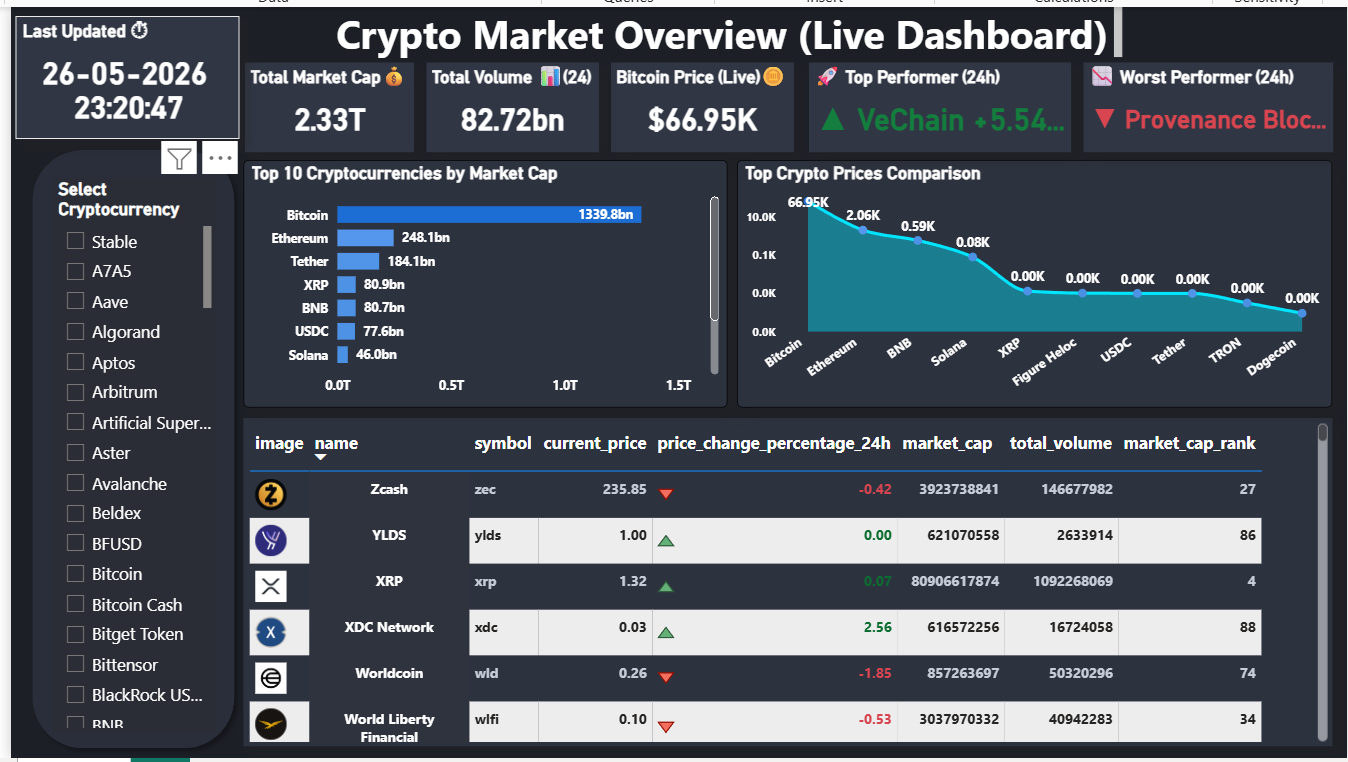

What the dashboard file says about the page in this screenshot:
{"tool":"powerbi","page":{"name":"Page 1","canvas":[1280,720],"ordinal":0},"visuals":[{"type":"shape","box":[11.7,128.3,211.7,591.7],"z":0},{"type":"card","title":"Total Market Cap💰","fields":{"Values":["Sum(markets?vs_currency=usd&order=market_cap_desc&per_page=100&page=1&sparkline=fals.market_cap)"]},"box":[224.1,53,162,86.3],"z":1000},{"type":"card","title":"Bitcoin Price (Live)🪙","fields":{"Values":["Max(markets?vs_currency=usd&order=market_cap_desc&per_page=100&page=1&sparkline=fals.current_price)"]},"box":[575.4,53,175,86.3],"z":2000},{"type":"card","title":"Total Volume 📊(24)","fields":{"Values":["Sum(markets?vs_currency=usd&order=market_cap_desc&per_page=100&page=1&sparkline=fals.total_volume)"]},"box":[398.2,53,165,86.3],"z":3000},{"type":"tableEx","fields":{"Values":["markets?vs_currency=usd&order=market_cap_desc&per_page=100&page=1&sparkline=fals.image","markets?vs_currency=usd&order=market_cap_desc&per_page=100&page=1&sparkline=fals.name","markets?vs_currency=usd&order=market_cap_desc&per_page=100&page=1&sparkline=fals.symbol","Sum(markets?vs_currency=usd&order=market_cap_desc&per_page=100&page=1&sparkline=fals.current_price)","Sum(markets?vs_currency=usd&order=market_cap_desc&per_page=100&page=1&sparkline=fals.price_change_percentage_24h)","Sum(markets?vs_currency=usd&order=market_cap_desc&per_page=100&page=1&sparkline=fals.market_cap)","Sum(markets?vs_currency=usd&order=market_cap_desc&per_page=100&page=1&sparkline=fals.total_volume)","Sum(markets?vs_currency=usd&order=market_cap_desc&per_page=100&page=1&sparkline=fals.market_cap_rank)"]},"box":[222.9,394,1044.1,314.9],"z":4000},{"type":"slicer","title":"Select Cryptocurrency","fields":{"Values":["markets?vs_currency=usd&order=market_cap_desc&per_page=100&page=1&sparkline=fals.name"]},"box":[40,163.3,156.7,531.7],"z":5000},{"type":"clusteredBarChart","title":"Top 10 Cryptocurrencies by Market Cap","fields":{"Category":["markets?vs_currency=usd&order=market_cap_desc&per_page=100&page=1&sparkline=fals.name"],"Y":["Sum(markets?vs_currency=usd&order=market_cap_desc&per_page=100&page=1&sparkline=fals.market_cap)"]},"box":[222.2,147.2,463.9,237.5],"z":6000},{"type":"textbox","box":[302.8,0,766.7,52.8],"z":7000},{"type":"card","title":"Last Updated ⏱","fields":{"Values":["markets?vs_currency=usd&order=market_cap_desc&per_page=100&page=1&sparkline=fals.Last Updated"]},"box":[4,9,214,118.1],"z":8000},{"type":"lineChart","title":"Top Crypto Prices Comparison","fields":{"Y":["Max(markets.current_price)"],"Category":["markets.name"]},"box":[695.8,147.2,570.8,237.5],"z":9000},{"type":"card","title":"📉 Worst Performer (24h)","fields":{"Values":["markets.Top Loser Card"]},"box":[1028.1,53,239.2,86.3],"z":10000},{"type":"card","title":"🚀 Top Performer (24h)","fields":{"Values":["markets.Top Gainer Card"]},"box":[764.7,53,251.4,86.3],"z":11000}]}

Visuals, with their boxes on the page's 1280x720 design canvas (x1, y1, x2, y2). These are canvas units, not pixel positions in the 1348x762 screenshot, which may show the page scaled, cropped or inside an application window:
shape: bbox=(12, 128, 223, 720)
"Total Market Cap💰" card: bbox=(224, 53, 386, 139)
"Bitcoin Price (Live)🪙" card: bbox=(575, 53, 750, 139)
"Total Volume 📊(24)" card: bbox=(398, 53, 563, 139)
tableEx - markets?vs_currency=usd&order=market_cap_desc&per_page=100&page=1&sparkline=fals.image x markets?vs_currency=usd&order=market_cap_desc&per_page=100&page=1&sparkline=fals.name: bbox=(223, 394, 1267, 709)
"Select Cryptocurrency" slicer: bbox=(40, 163, 197, 695)
"Top 10 Cryptocurrencies by Market Cap" clusteredBarChart: bbox=(222, 147, 686, 385)
textbox: bbox=(303, 0, 1070, 53)
"Last Updated ⏱" card: bbox=(4, 9, 218, 127)
"Top Crypto Prices Comparison" lineChart: bbox=(696, 147, 1267, 385)
"📉 Worst Performer (24h)" card: bbox=(1028, 53, 1267, 139)
"🚀 Top Performer (24h)" card: bbox=(765, 53, 1016, 139)
